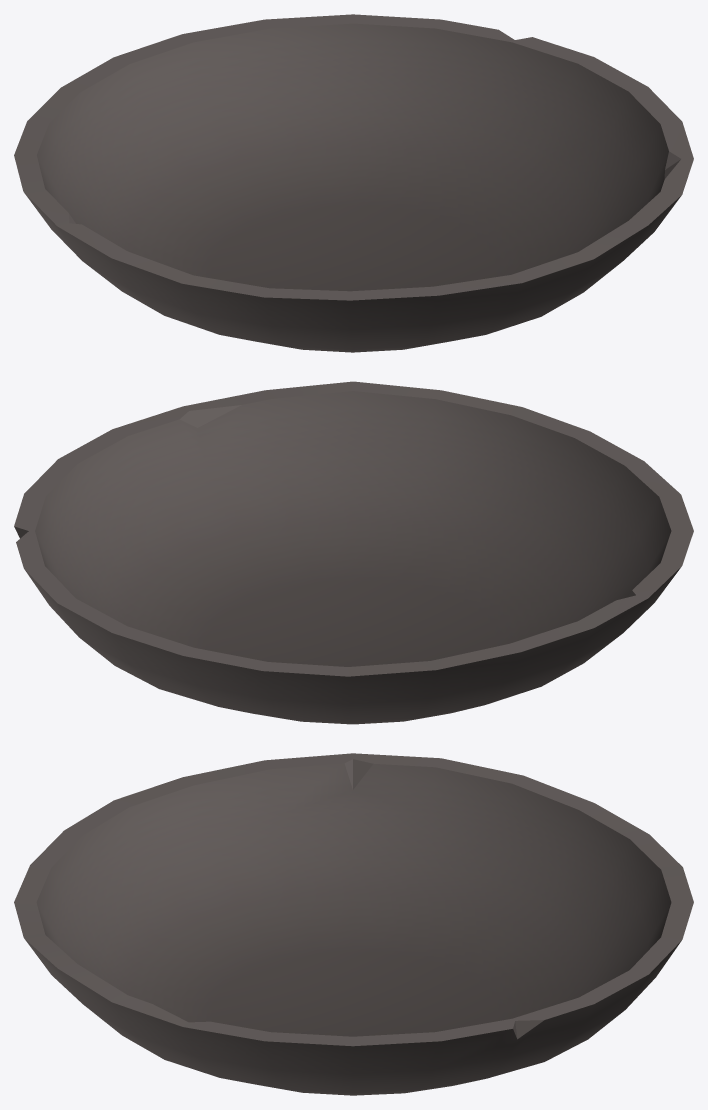
The model's file is Bowl_Low.fbx.
3 renders of one model, top to bottom at view 1: azimuth 30°, elevation 25°; view 2: azimuth 150°, elevation 25°; view 3: azimuth 270°, elevation 25°, orthographic.
Parts seen in each view (by area): view 1: Bowl_Low; view 2: Bowl_Low; view 3: Bowl_Low.
Boxes of the visible parts, x1=… form: Bowl_Low: x1=14, y1=14, x2=693, y2=352; Bowl_Low: x1=14, y1=381, x2=693, y2=724; Bowl_Low: x1=14, y1=753, x2=693, y2=1095.
Size of the model in its own units: 27.78 by 5.79 by 27.71.
